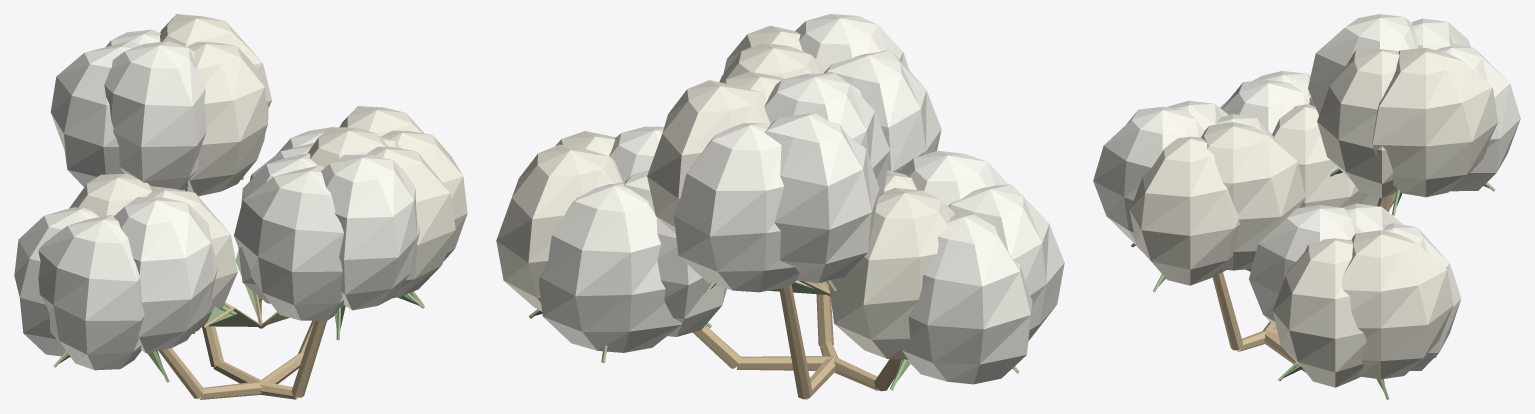
The model's file is cotton.glb.
3 renders of one model, left to right at view 1: azimuth 30°, elevation 25°; view 2: azimuth 150°, elevation 25°; view 3: azimuth 270°, elevation 25°, orthographic. The views are drawn at different scales.
Parts seen in each view (by area): view 1: cotton_trade_good; view 2: cotton_trade_good; view 3: cotton_trade_good.
Part boxes in pixels (left/top/right/bottom): cotton_trade_good: left=14, top=14, right=467, bottom=399; cotton_trade_good: left=496, top=14, right=1064, bottom=399; cotton_trade_good: left=1093, top=14, right=1520, bottom=399.
Bounding box in the file's own units: 1.53 × 1.04 × 1.32.
